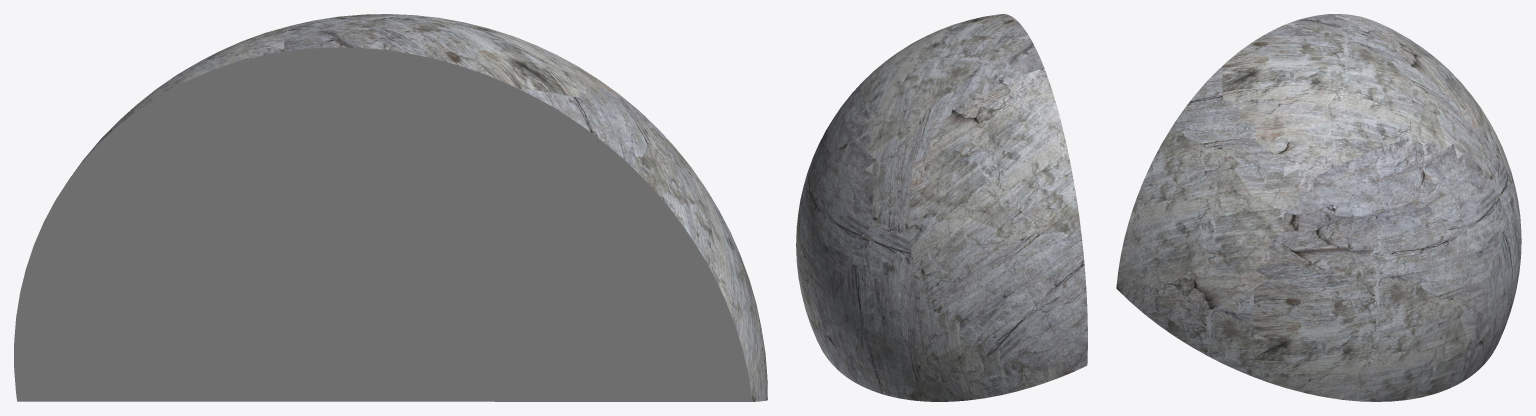
Rendered from sliced_ball4.obj.
3 views of the same model, side by side, from view 1: azimuth 30°, elevation 25°; view 2: azimuth 150°, elevation 25°; view 3: azimuth 270°, elevation 25° (orthographic). The views are drawn at different scales.
Parts seen in each view (by area): view 1: Object.1; view 2: Object.1; view 3: Object.1.
Part boxes in pixels (left/top/right/bottom): Object.1: left=14, top=14, right=767, bottom=401; Object.1: left=796, top=14, right=1087, bottom=401; Object.1: left=1116, top=14, right=1521, bottom=401.
Bounding box in the file's own units: 0.8532 × 0.7084 × 0.8514.
Materials: 1 (1 with a texture image).
